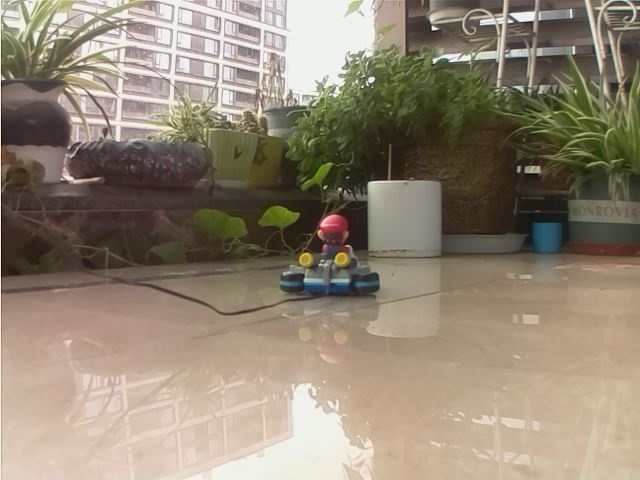mario: (275, 203, 389, 309)
